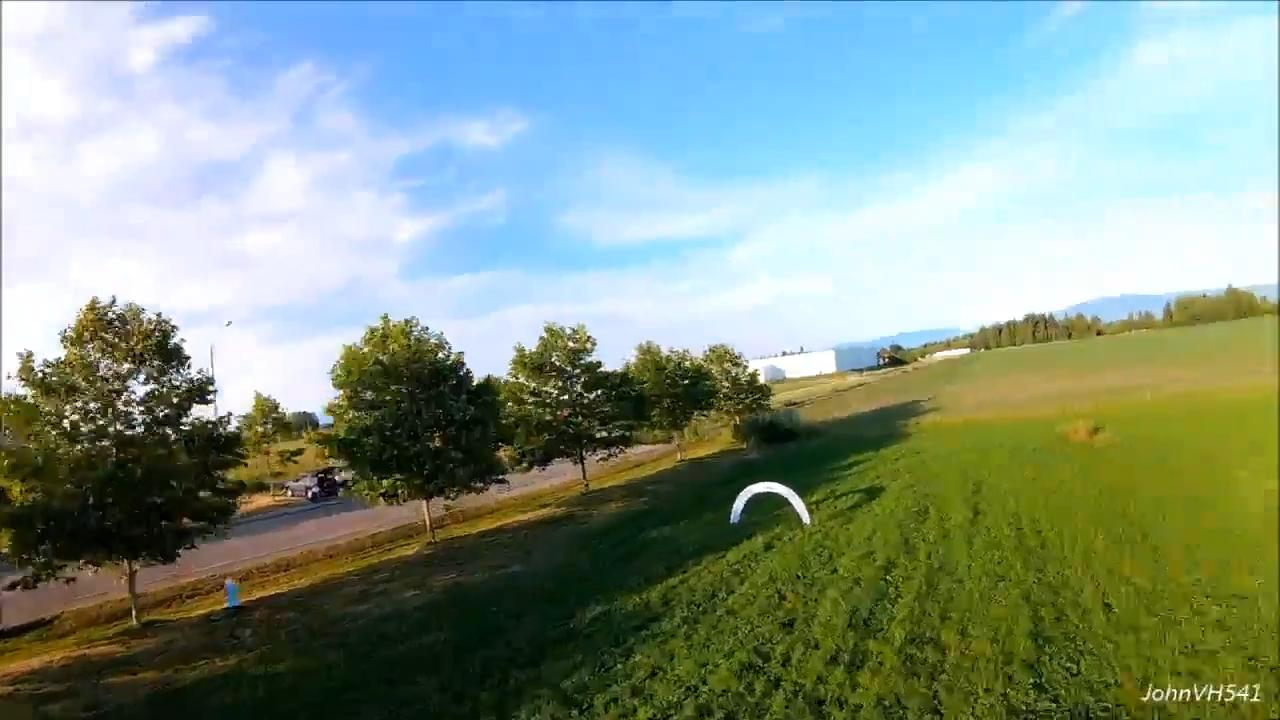gate: (727, 481, 815, 525)
